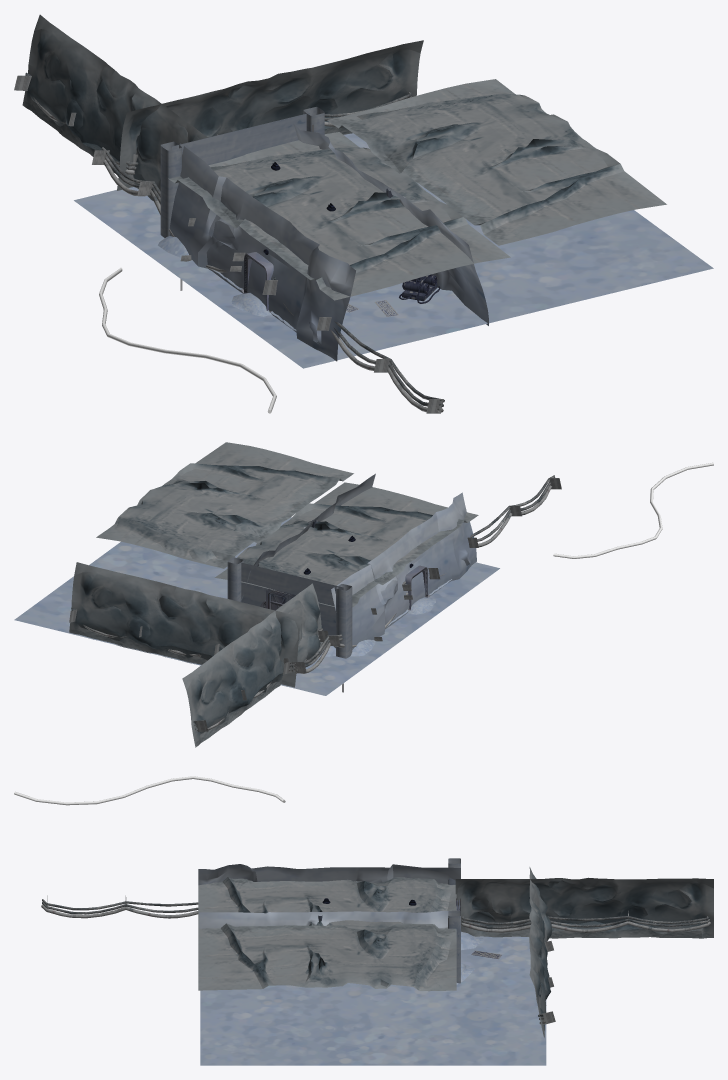
The model's file is env_hoth_ice_hallway_01_pre.glb.
3 renders of one model, top to bottom at view 1: azimuth 30°, elevation 25°; view 2: azimuth 150°, elevation 25°; view 3: azimuth 270°, elevation 25°, orthographic. The views are drawn at different scales.
Visible parts, largest first — view 1: hoth_wall_a1_02_mesh (×2), ground_plane_mesh, hoth_wall_a1_03_mesh (×2), hoth_wall_a1_01_mesh, hoth_wall_a1_04_mesh, wall_doorway_01_mesh, hoth_wall_pipe_a1_02_mesh, hoth_wall_pipe_a1_01_mesh, pillar_01_mesh, Art Assets, hoth_generator_01_dtl_mesh; view 2: hoth_wall_a1_02_mesh (×2), hoth_wall_a1_03_mesh (×2), ground_plane_mesh, hoth_wall_a1_01_mesh, wall_doorway_01_mesh, hoth_wall_pipe_a1_02_mesh (×2), pillar_01_mesh (×2), hoth_wall_a1_04_mesh, hoth_wall_pipe_a1_01_mesh, Art Assets; view 3: ground_plane_mesh, hoth_wall_a1_02_mesh (×2), hoth_wall_a1_03_mesh (×2), hoth_wall_pipe_a1_02_mesh (×2), hoth_wall_a1_01_mesh, hoth_wall_a1_04_mesh, Art Assets, pillar_01_mesh.
Part boxes in pixels (x1,y1,x2,y2): hoth_wall_a1_02_mesh (×2): (168, 79, 666, 300); ground_plane_mesh: (74, 133, 713, 368); hoth_wall_a1_03_mesh (×2): (22, 14, 423, 204); hoth_wall_a1_01_mesh: (169, 143, 355, 361); hoth_wall_a1_04_mesh: (293, 124, 488, 325); wall_doorway_01_mesh: (172, 113, 309, 164); hoth_wall_pipe_a1_02_mesh: (262, 277, 444, 413); hoth_wall_pipe_a1_01_mesh: (92, 147, 247, 272); pillar_01_mesh: (160, 141, 181, 237); Art Assets: (99, 267, 276, 413); hoth_generator_01_dtl_mesh: (399, 274, 440, 303); hoth_wall_a1_02_mesh (×2): (96, 442, 478, 607); hoth_wall_a1_03_mesh (×2): (69, 562, 322, 747); ground_plane_mesh: (14, 517, 499, 695); hoth_wall_a1_01_mesh: (331, 492, 476, 649); wall_doorway_01_mesh: (238, 562, 343, 648); hoth_wall_pipe_a1_02_mesh (×2): (69, 475, 561, 674); pillar_01_mesh (×2): (227, 557, 352, 658); hoth_wall_a1_04_mesh: (240, 473, 375, 601); hoth_wall_pipe_a1_01_mesh: (293, 581, 412, 673); Art Assets: (553, 462, 713, 558); ground_plane_mesh: (200, 936, 546, 1065); hoth_wall_a1_02_mesh (×2): (198, 877, 456, 991); hoth_wall_a1_03_mesh (×2): (455, 867, 713, 1037); hoth_wall_pipe_a1_02_mesh (×2): (41, 895, 710, 932); hoth_wall_a1_01_mesh: (198, 864, 460, 885); hoth_wall_a1_04_mesh: (199, 911, 448, 984); Art Assets: (14, 776, 285, 805); pillar_01_mesh: (448, 910, 460, 983).
Bounding box in the file's own units: 43.24 × 10.06 × 56.95.
Materials: 15 (15 with a texture image).
